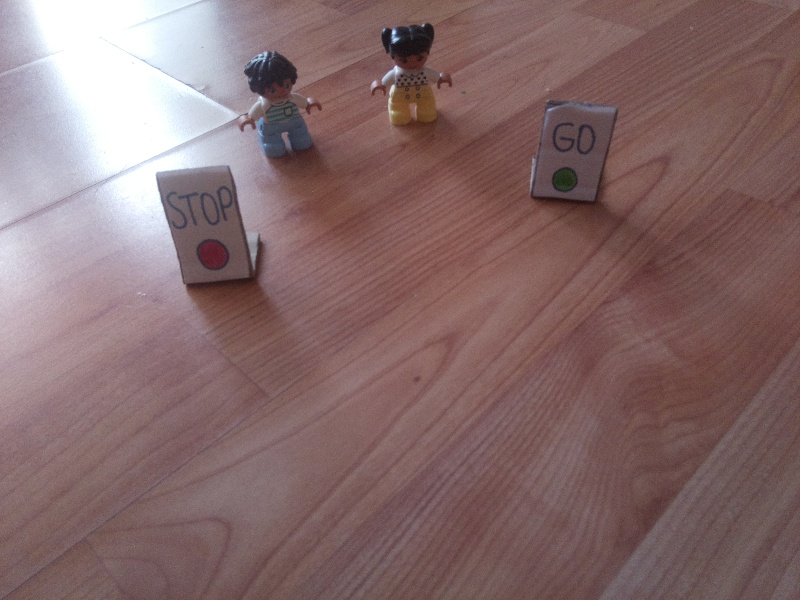go: (544, 117, 601, 194)
person: (366, 20, 454, 132), (236, 48, 321, 160)
stop: (164, 179, 242, 272)
